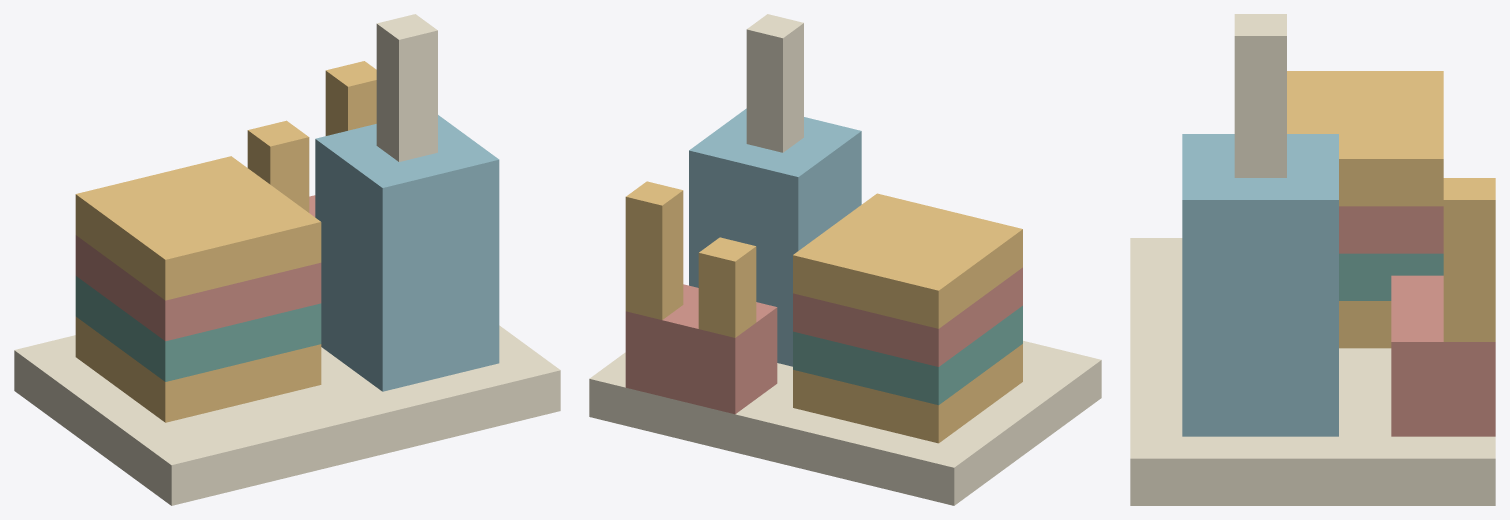
The model's file is pocket-borough-sandwich-tray__296.glb.
3 views of the same model, side by side, from view 1: azimuth 30°, elevation 25°; view 2: azimuth 150°, elevation 25°; view 3: azimuth 270°, elevation 25° (orthographic). The views are drawn at different scales.
Visible parts, largest first — view 1: pocket-borough-sandwich-tray; view 2: pocket-borough-sandwich-tray; view 3: pocket-borough-sandwich-tray.
Part boxes in pixels (x1,y1,x2,y2): pocket-borough-sandwich-tray: (14,14,560,505); pocket-borough-sandwich-tray: (589,14,1101,505); pocket-borough-sandwich-tray: (1130,14,1495,505).
Size of the model in its own units: 1.25 by 1.12 by 0.875.
